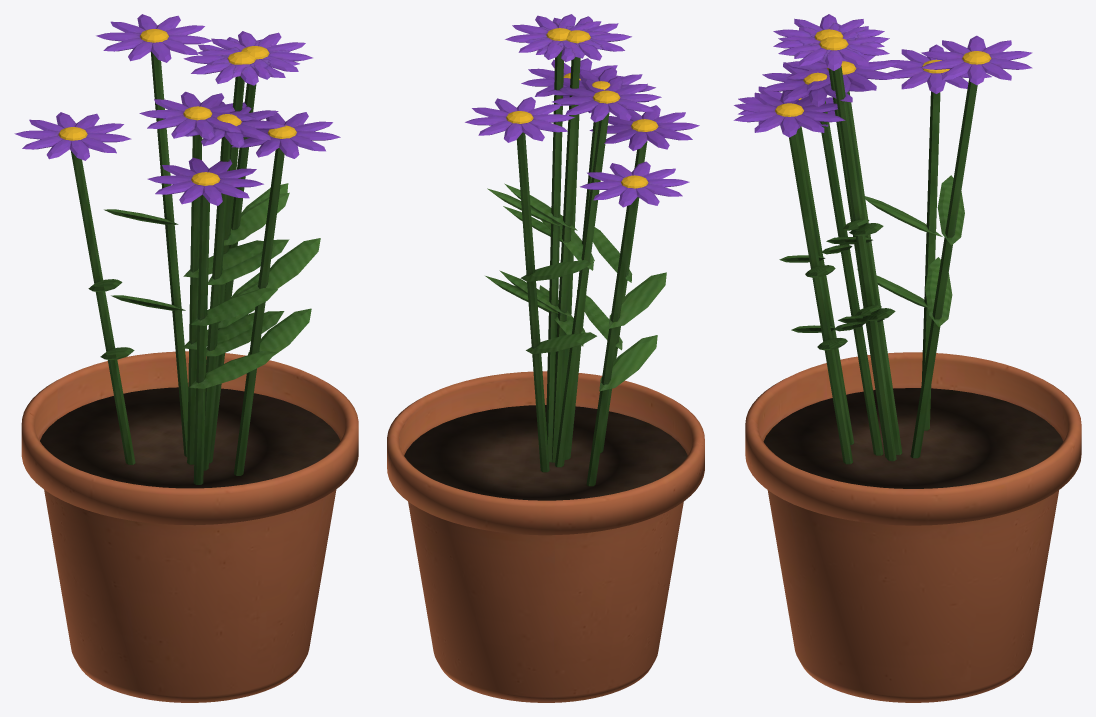
The model's file is purple-daisies.glb.
The picture shows the model from 3 angles, left to right: view 1: azimuth 30°, elevation 25°; view 2: azimuth 150°, elevation 25°; view 3: azimuth 270°, elevation 25°; orthographic projection. The views are drawn at different scales.
Visible parts, largest first — view 1: terracotta, flower_stem, soil, petals, flower_center; view 2: terracotta, flower_stem, soil, petals, flower_center; view 3: terracotta, flower_stem, soil, petals, flower_center.
Part boxes in pixels (<box>): terracotta: <box>21,351,358,702</box>; flower_stem: <box>70,51,320,484</box>; soil: <box>40,387,340,488</box>; petals: <box>14,14,340,205</box>; flower_center: <box>58,29,296,185</box>; terracotta: <box>387,371,704,702</box>; flower_stem: <box>485,50,666,486</box>; soil: <box>404,405,687,500</box>; petals: <box>465,14,699,207</box>; flower_center: <box>506,28,658,188</box>; terracotta: <box>745,352,1081,702</box>; flower_stem: <box>779,66,977,464</box>; soil: <box>763,388,1063,488</box>; petals: <box>733,14,1032,137</box>; flower_center: <box>775,29,991,116</box>.
Size of the model in its own units: 0.2198 by 0.4367 by 0.2195.
Materials: 5 (4 with a texture image).
